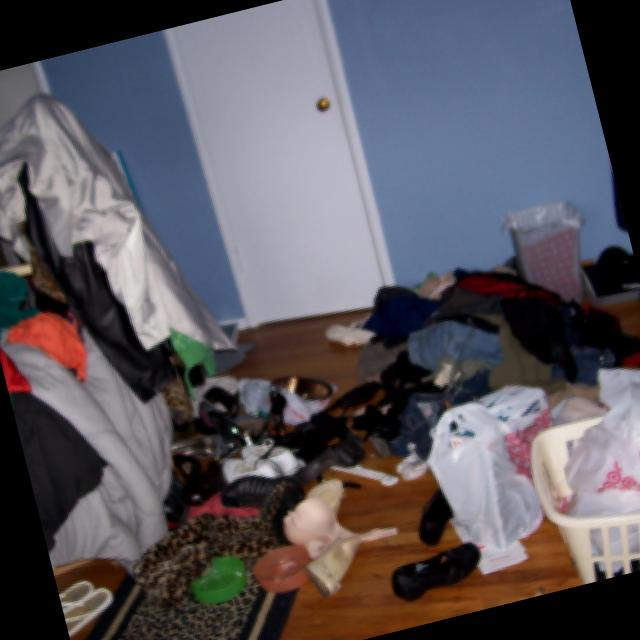mess: (156, 222, 640, 640), (0, 229, 209, 608)
